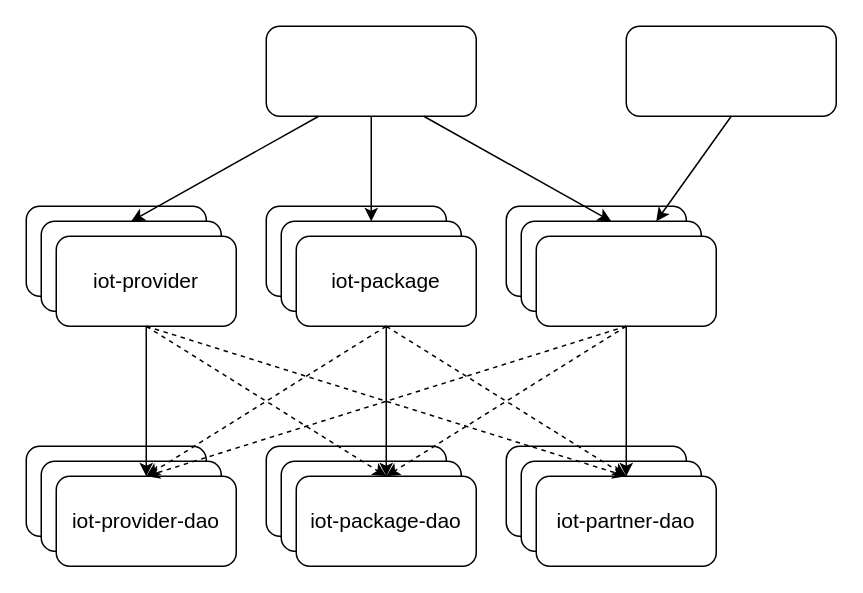
Image size: 863x593. Some labels were removed from this diagram. The centre of each missing label's shape, as x and y in pixels:
iot-gateway-partner: pixel 730 70
iot-gateway-web: pixel 370 70
iot-partner: pixel 625 280
